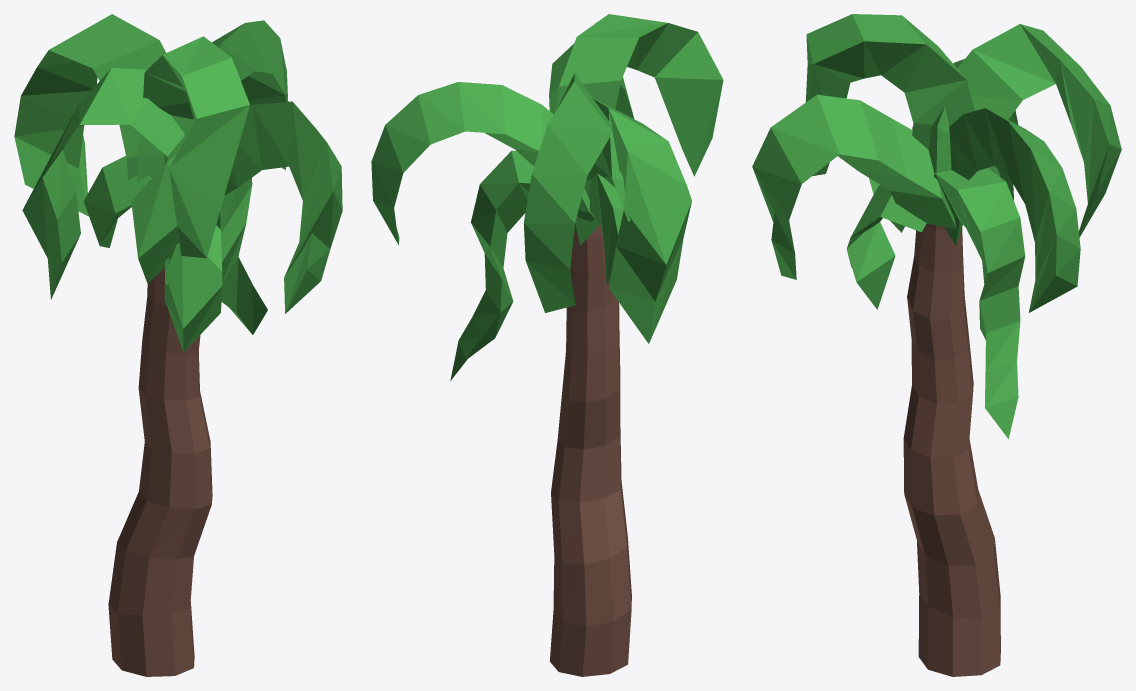
3 renders of one model, left to right at view 1: azimuth 30°, elevation 25°; view 2: azimuth 150°, elevation 25°; view 3: azimuth 270°, elevation 25°, orthographic. The views are drawn at different scales.
Parts seen in each view (by area): view 1: default; view 2: default; view 3: default.
Boxes of the visible parts, box(x1,y1,x2,y2) form: default: box(14, 14, 342, 676); default: box(371, 14, 723, 676); default: box(752, 14, 1121, 676).
Bounding box in the file's own units: 0.7898 × 1.66 × 0.8749.
